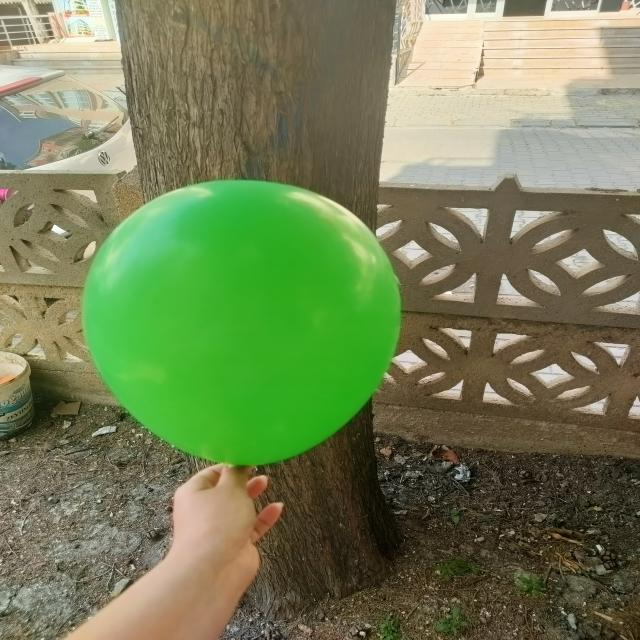green: (85, 183, 401, 467)
